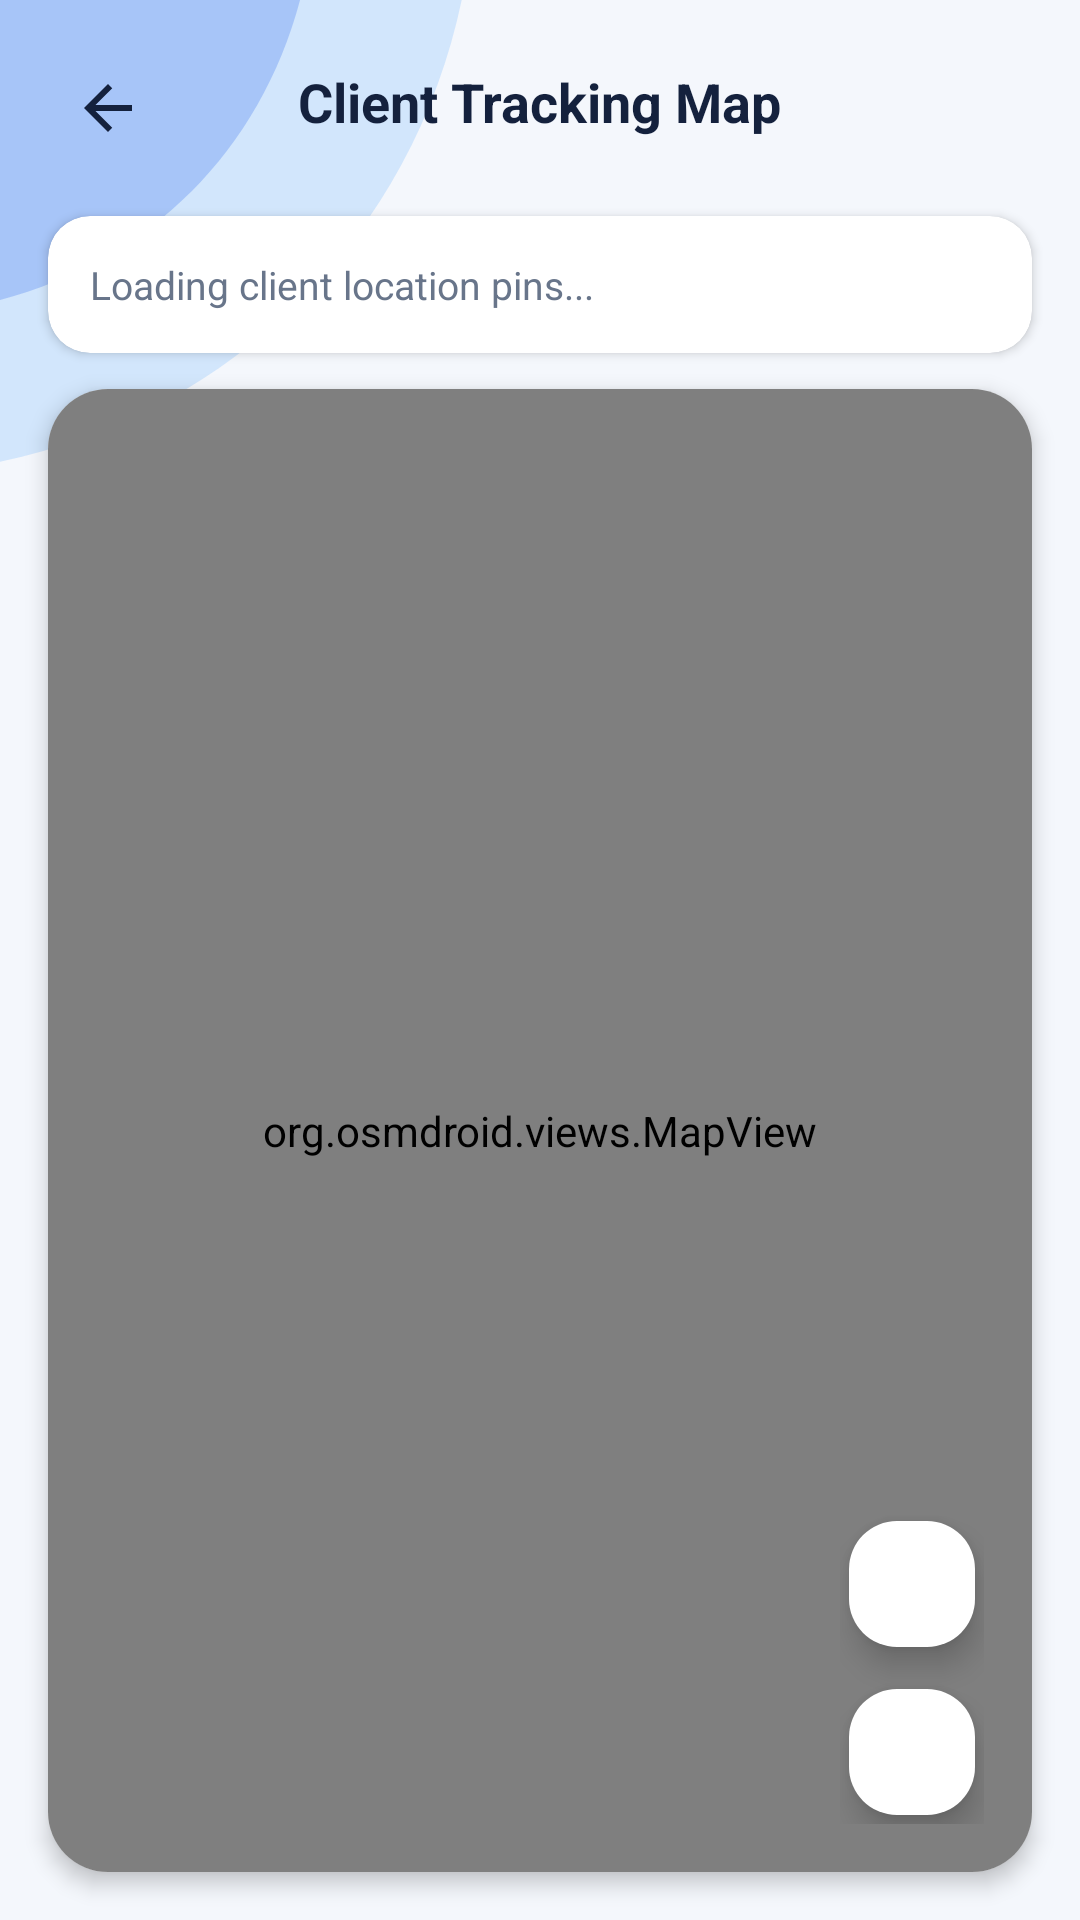

Icons on this 1080×1920 Android screen, each with its box as (x1, y1, x2, y2):
Back Button: (84, 84, 132, 132)
